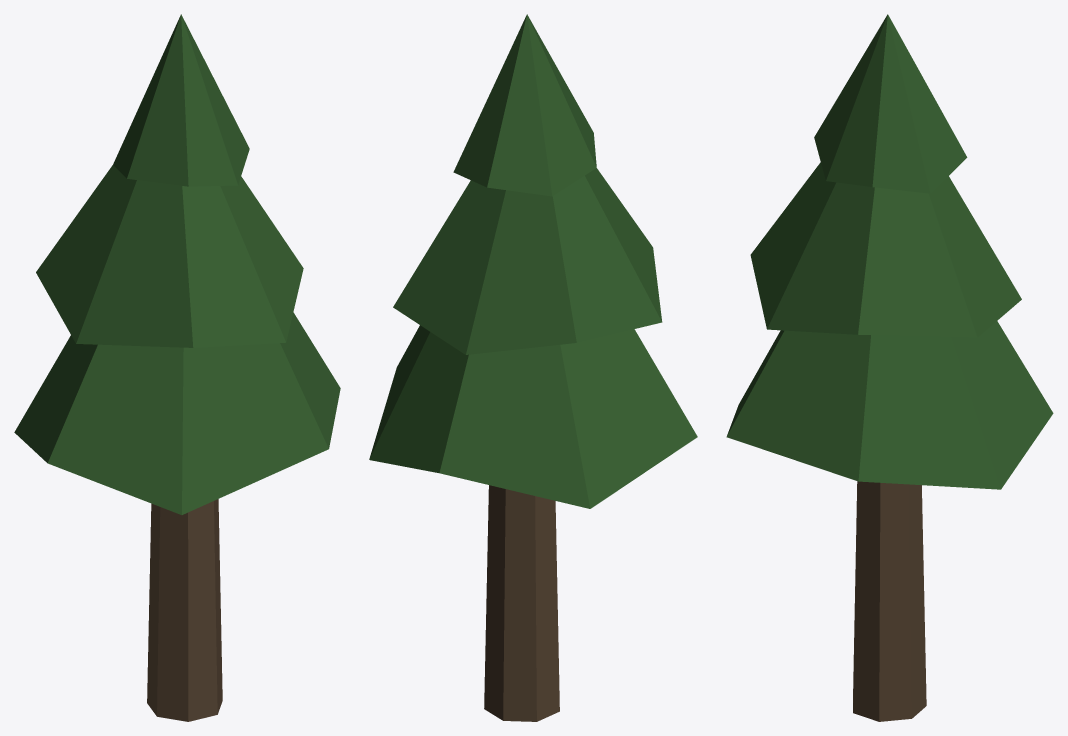
The model's file is tree2.fbx.
3 renders of one model, left to right at view 1: azimuth 30°, elevation 25°; view 2: azimuth 150°, elevation 25°; view 3: azimuth 270°, elevation 25°, orthographic.
Visible parts, largest first — view 1: Cone.001; view 2: Cone.001; view 3: Cone.001.
Boxes of the visible parts, box(x1,y1,x2,y2) form: Cone.001: box(14, 14, 340, 721); Cone.001: box(369, 14, 697, 721); Cone.001: box(726, 14, 1053, 721).
Size of the model in its own units: 407 by 908 by 390.
